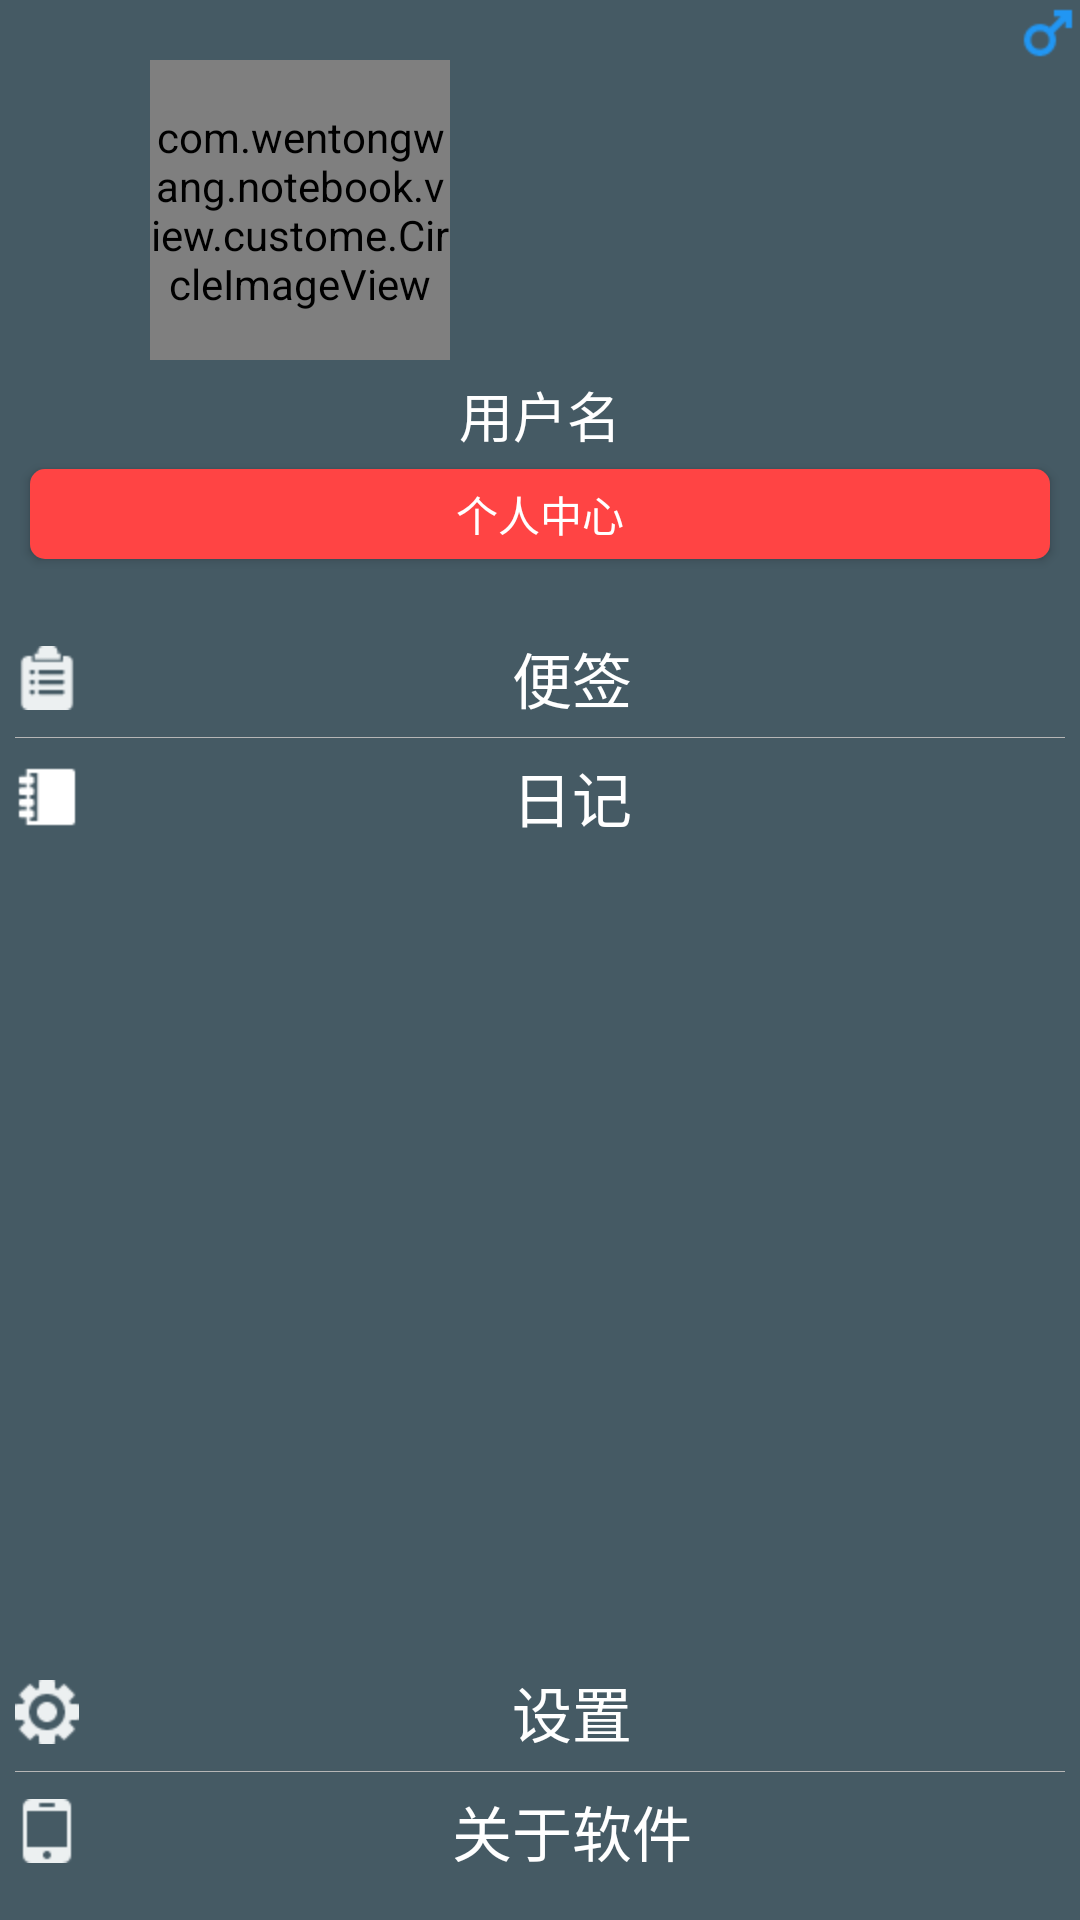

Named icons in this screenshot (1080×1920) and their bounding boxes, (x1, y1, x2, y2):
male: (1023, 9, 1073, 57)
